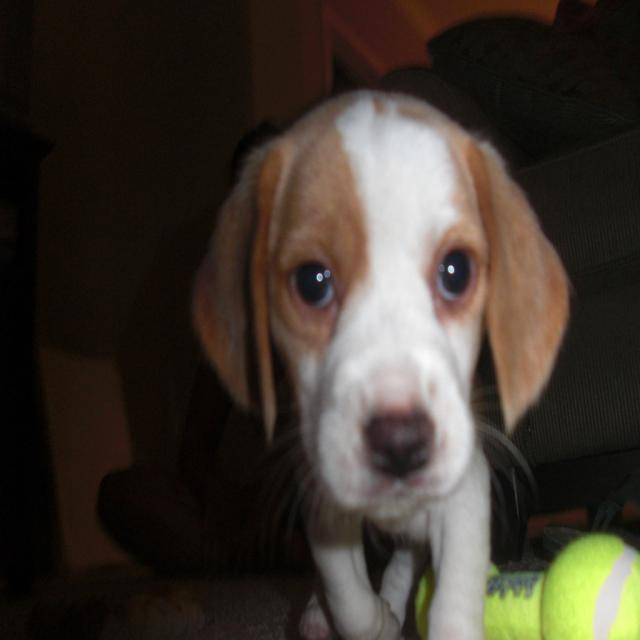Tennis ball: (541, 530, 640, 640)
